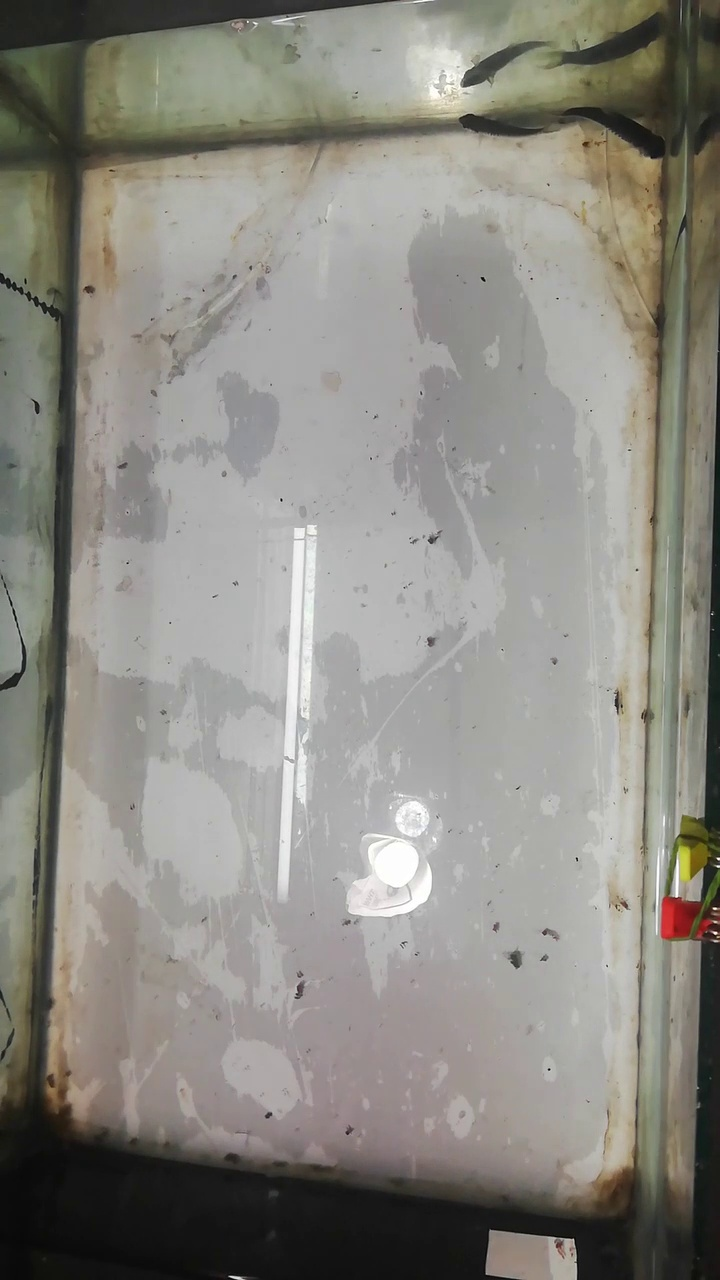fish1: (561, 105, 665, 164)
fish2: (453, 110, 550, 140)
